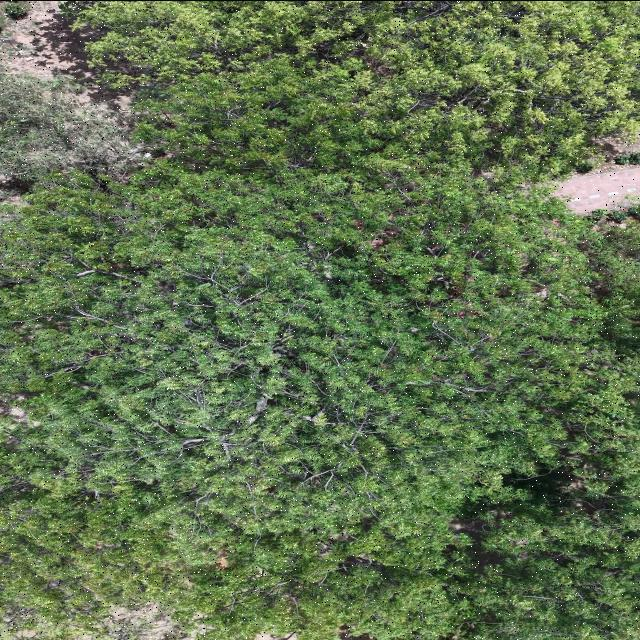DRY_AREA: (0, 1, 130, 110), (0, 1, 129, 110), (554, 136, 639, 213), (554, 167, 639, 213), (586, 135, 639, 173), (254, 634, 295, 639)
VEGETATION_TREE: (0, 1, 639, 639), (79, 1, 637, 180), (0, 73, 139, 200), (589, 206, 639, 222), (2, 2, 28, 20), (614, 152, 639, 164), (575, 160, 596, 173)
